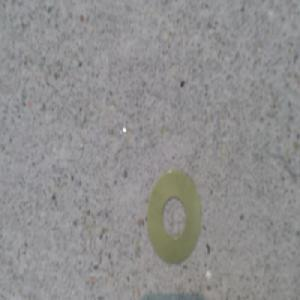Washer: (147, 164, 202, 260)
